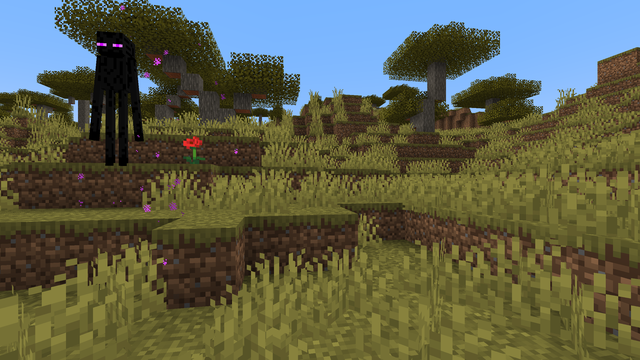endermens: (92, 25, 138, 163)
